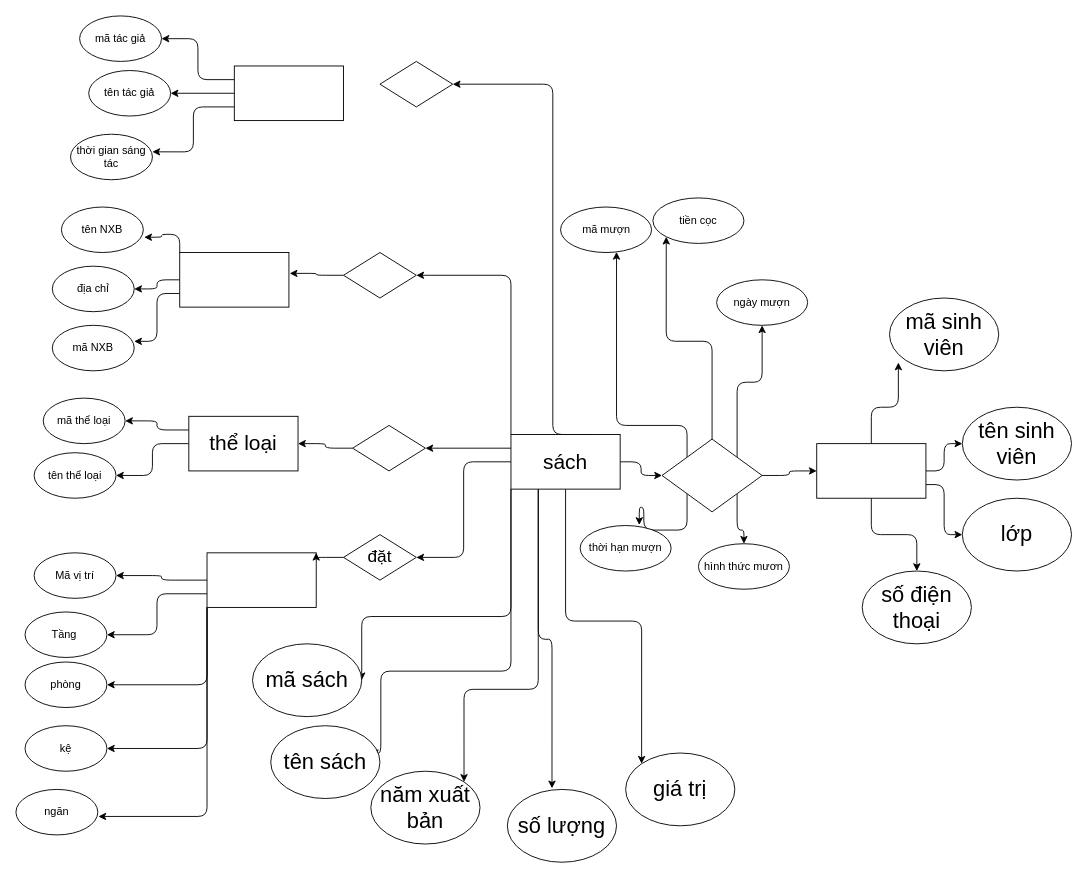
The diagram is 1087 pixels wide and 878 high, and some of its shapes have lost their labels. The centre of each missing label's shape, as x and y in pixels:
"Mượn" belongs at point 711,475.
"người viết" belongs at point 416,84.
"Nhà xuất bản" belongs at point 234,279.
"sinh viên" belongs at point 871,470.
"thuộc" belongs at point 388,448.
"tác giả" belongs at point 288,93.
"vị trí" belongs at point 261,579.
"xuất bản" belongs at point 379,275.
